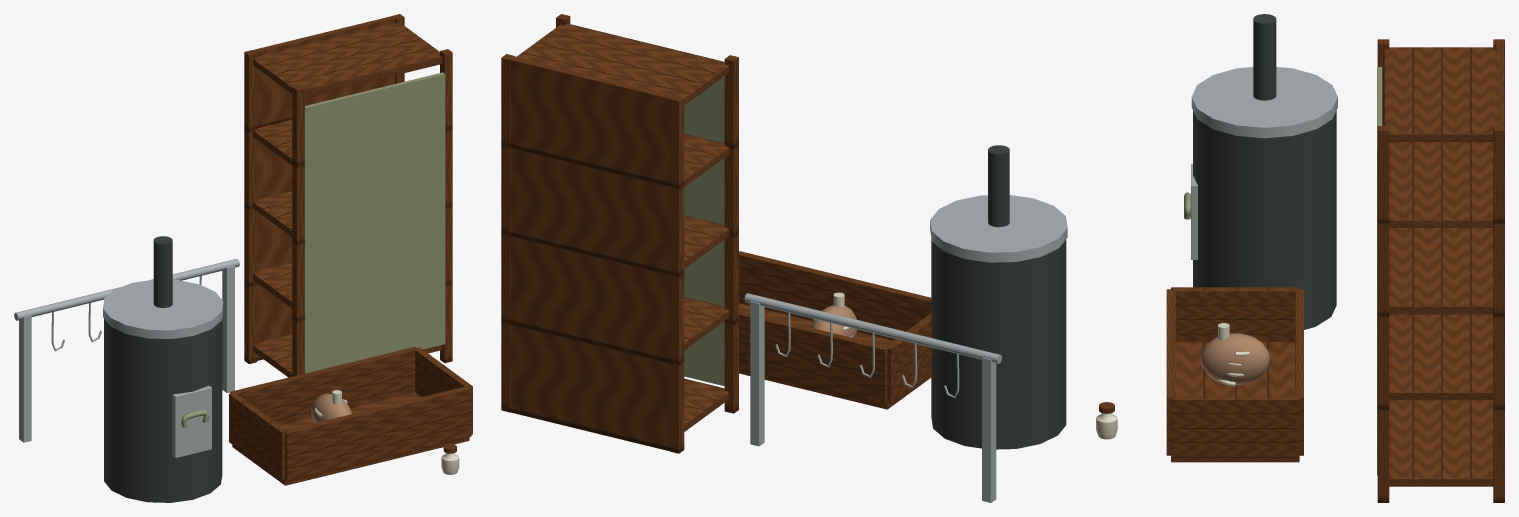
File: survival-food-and-preservation-smokehous-9933f364-starter-scene__21820.glb
3 renders of one model, left to right at view 1: azimuth 30°, elevation 25°; view 2: azimuth 150°, elevation 25°; view 3: azimuth 270°, elevation 25°, orthographic. The views are drawn at different scales.
Parts seen in each view (by area): view 1: 002-curing-cabinet/door/canvas, 002-curing-cabinet/0, 001-salting-trough/0, 000-barrel-smoker/0, 000-barrel-smoker/1, 003-meat-hook-rail/0, 000-barrel-smoker/door/metal, 005-cured-ham/0; view 2: 002-curing-cabinet/0, 000-barrel-smoker/0, 001-salting-trough/0, 002-curing-cabinet/door/canvas, 003-meat-hook-rail/0, 000-barrel-smoker/1, 005-cured-ham/0; view 3: 002-curing-cabinet/0, 000-barrel-smoker/0, 001-salting-trough/0, 000-barrel-smoker/1, 005-cured-ham/0, 002-curing-cabinet/door/canvas, 000-barrel-smoker/door/metal, 004-salt-jar/0.
Boxes of the visible parts, left/top/right/bottom form: 002-curing-cabinet/door/canvas: left=304, top=72, right=445, bottom=373; 002-curing-cabinet/0: left=244, top=14, right=452, bottom=377; 001-salting-trough/0: left=229, top=347, right=472, bottom=485; 000-barrel-smoker/0: left=104, top=236, right=222, bottom=502; 000-barrel-smoker/1: left=103, top=279, right=223, bottom=338; 003-meat-hook-rail/0: left=14, top=259, right=239, bottom=442; 000-barrel-smoker/door/metal: left=172, top=386, right=211, bottom=458; 005-cured-ham/0: left=311, top=393, right=351, bottom=423; 002-curing-cabinet/0: left=501, top=14, right=738, bottom=453; 000-barrel-smoker/0: left=931, top=145, right=1066, bottom=449; 001-salting-trough/0: left=739, top=251, right=931, bottom=409; 002-curing-cabinet/door/canvas: left=684, top=76, right=724, bottom=386; 003-meat-hook-rail/0: left=744, top=293, right=1002, bottom=502; 000-barrel-smoker/1: left=930, top=195, right=1067, bottom=262; 005-cured-ham/0: left=811, top=305, right=857, bottom=338; 002-curing-cabinet/0: left=1377, top=39, right=1504, bottom=502; 000-barrel-smoker/0: left=1193, top=14, right=1336, bottom=329; 001-salting-trough/0: left=1166, top=287, right=1303, bottom=462; 000-barrel-smoker/1: left=1191, top=67, right=1337, bottom=138; 005-cured-ham/0: left=1200, top=333, right=1270, bottom=385; 002-curing-cabinet/door/canvas: left=1377, top=67, right=1382, bottom=475; 000-barrel-smoker/door/metal: left=1191, top=164, right=1197, bottom=259; 004-salt-jar/0: left=1096, top=413, right=1117, bottom=439.
Size of the model in its own units: 2.22 by 1.6 by 1.59.
Materials: 6 (1 with a texture image).
